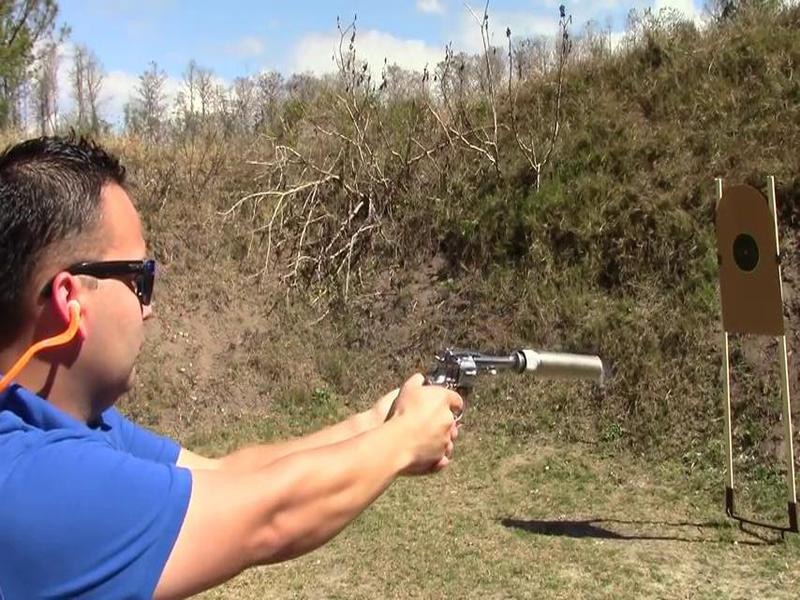Revolver: (391, 338, 537, 431)
